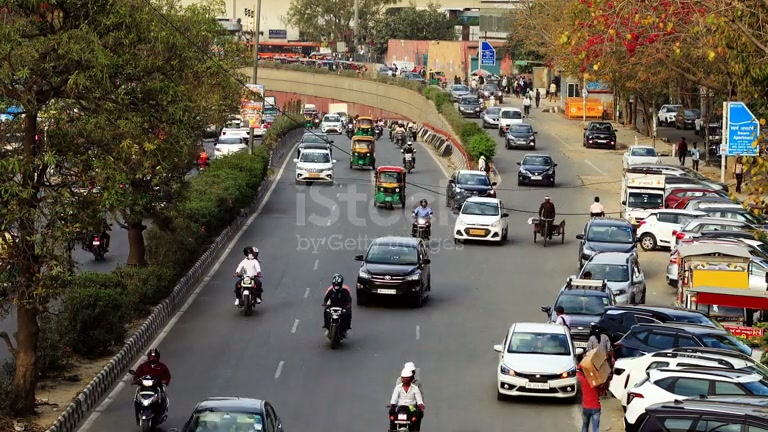car: (617, 364, 768, 426), (609, 353, 763, 406), (493, 322, 579, 403), (585, 305, 729, 352), (610, 323, 762, 362), (354, 236, 432, 308), (543, 287, 618, 343), (633, 399, 767, 430), (572, 252, 646, 306), (183, 397, 285, 432), (576, 218, 639, 269), (635, 208, 708, 251), (452, 197, 510, 246), (446, 170, 494, 213), (294, 147, 335, 185), (517, 154, 557, 187), (622, 146, 660, 172), (583, 121, 618, 149), (505, 123, 537, 150), (481, 106, 517, 129), (319, 114, 344, 134), (458, 95, 481, 116), (481, 107, 504, 128)
motorcycle: (132, 377, 169, 431), (323, 301, 351, 349), (233, 272, 263, 316), (529, 215, 566, 246), (387, 401, 424, 432), (403, 146, 416, 173)
pedestrian: (132, 348, 171, 417), (388, 366, 425, 431), (577, 342, 603, 432), (322, 274, 353, 334), (232, 246, 263, 303), (410, 198, 434, 240), (538, 196, 555, 242), (734, 156, 746, 193), (588, 196, 605, 219)
truck: (373, 166, 406, 209), (214, 128, 252, 157), (349, 133, 376, 170)
